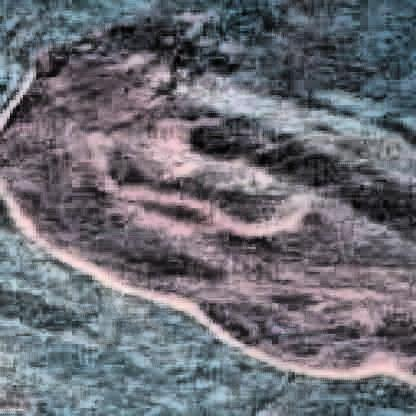sheen: (0, 0, 416, 382)
